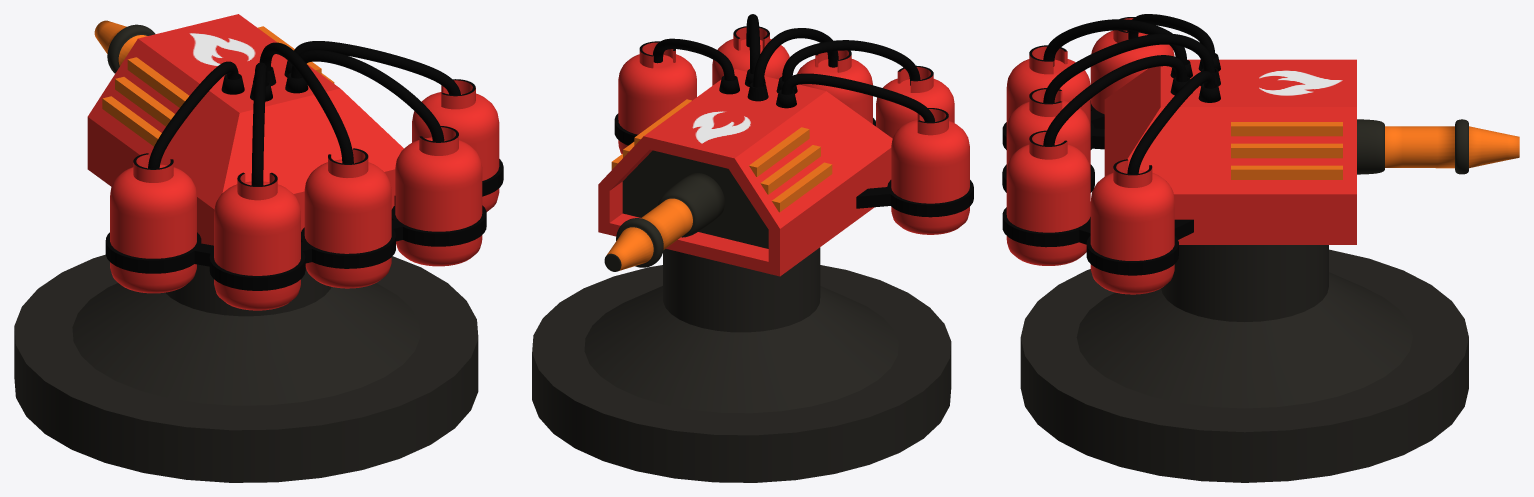
Rendered from flamethrower_L2.fbx.
The picture shows the model from 3 angles, left to right: view 1: azimuth 30°, elevation 25°; view 2: azimuth 150°, elevation 25°; view 3: azimuth 270°, elevation 25°; orthographic projection. The views are drawn at different scales.
Visible parts, largest first — view 1: Circle, turret, Circle.004, Circle.002, Circle.006, Circle.003, Circle.005, NurbsCurve.002, NurbsCurve.001, Cube, NurbsCurve, barrel; view 2: Circle, turret, Circle.006, barrel, Circle.005, Cube, NurbsCurve.002, Circle.004, NurbsCurve.001, Circle.002, Circle.003, NurbsCurve; view 3: Circle, turret, Circle.005, Circle.003, barrel, Cube, NurbsCurve.001, Circle.004, Circle.002, NurbsCurve.002, NurbsCurve, Circle.006.
Boxes of the visible parts, box(x1,y1,x2,y2) form: Circle: box(14, 254, 478, 482); turret: box(87, 14, 403, 245); Circle.004: box(194, 172, 305, 310); Circle.002: box(301, 148, 403, 288); Circle.006: box(105, 153, 201, 293); Circle.003: box(391, 126, 486, 266); Circle.005: box(412, 79, 503, 211); NurbsCurve.002: box(148, 41, 460, 168); NurbsCurve.001: box(251, 50, 444, 185); Cube: box(102, 26, 334, 146); NurbsCurve: box(259, 42, 353, 163); barrel: box(94, 20, 155, 73); Circle: box(532, 247, 951, 482); turret: box(598, 69, 892, 276); Circle.006: box(856, 108, 973, 234); barrel: box(604, 173, 724, 271); Circle.005: box(614, 41, 696, 153); Cube: box(611, 99, 832, 212); NurbsCurve.002: box(653, 38, 935, 122); Circle.004: box(876, 65, 954, 138); NurbsCurve.001: box(746, 14, 920, 85); Circle.002: box(797, 50, 875, 126); Circle.003: box(712, 26, 789, 85); NurbsCurve: box(753, 28, 838, 87); Circle: box(1020, 245, 1468, 482); turret: box(1104, 59, 1356, 244); Circle.005: box(1086, 159, 1193, 294); Circle.003: box(1002, 130, 1090, 265); barrel: box(1357, 119, 1519, 174); Cube: box(1231, 122, 1342, 179); NurbsCurve.001: box(1043, 19, 1187, 145); Circle.004: box(1002, 45, 1104, 149); Circle.002: box(1002, 88, 1094, 192); NurbsCurve.002: box(1127, 14, 1215, 174); NurbsCurve: box(1043, 33, 1214, 103); Circle.006: box(1090, 17, 1174, 128).
Size of the model in its own units: 160 by 139 by 184.
Materials: 7 (1 with a texture image).
